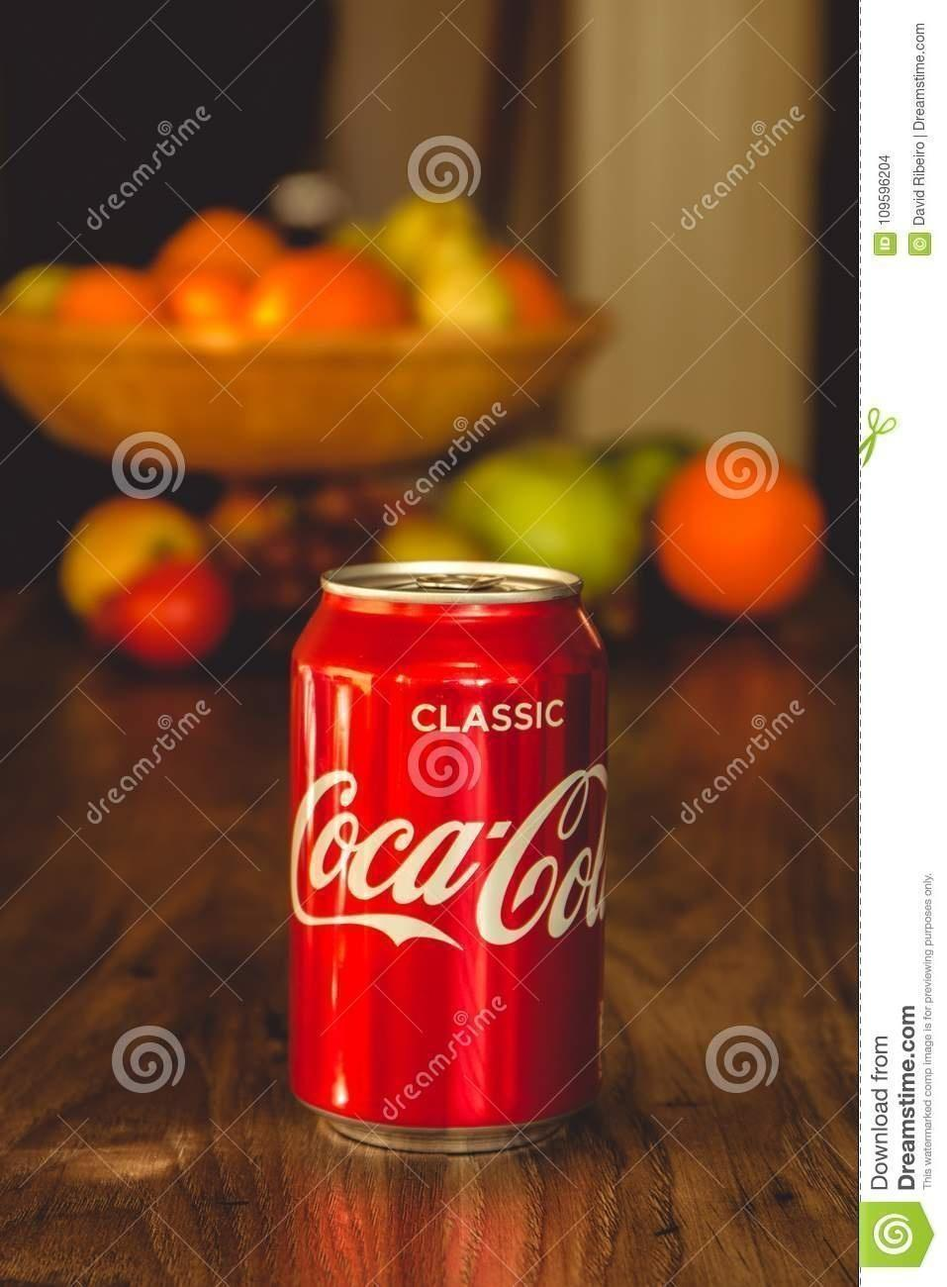tin can: (282, 560, 613, 1153)
